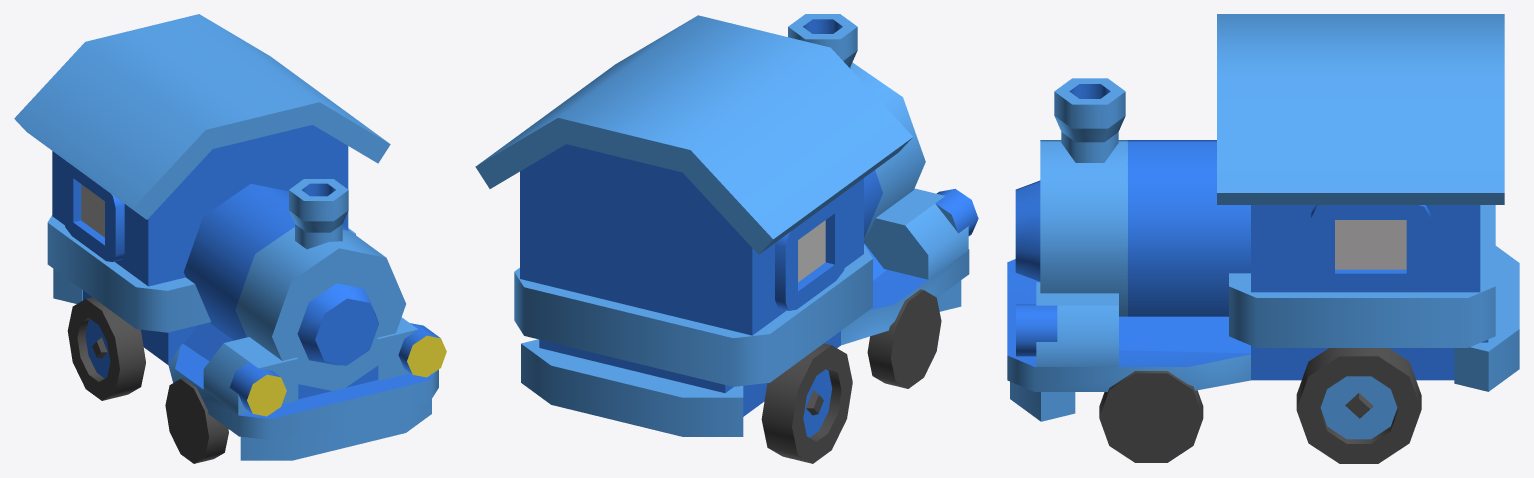
The model's file is Locomotive.fbx.
3 renders of one model, left to right at view 1: azimuth 30°, elevation 25°; view 2: azimuth 150°, elevation 25°; view 3: azimuth 270°, elevation 25°, orthographic. The views are drawn at different scales.
Visible parts, largest first — view 1: Locomotive, wheel_1, wheels_front; view 2: Locomotive, wheel_1, wheels_front; view 3: Locomotive, wheel_3, wheels_front.
Part boxes in pixels (x1,y1,x2,y2): Locomotive: [14, 14, 446, 460]; wheel_1: [67, 297, 145, 400]; wheels_front: [165, 378, 228, 463]; Locomotive: [475, 14, 978, 436]; wheel_1: [761, 343, 852, 463]; wheels_front: [867, 289, 941, 388]; Locomotive: [1007, 14, 1519, 421]; wheel_3: [1296, 348, 1421, 463]; wheels_front: [1099, 371, 1203, 462].
Bounding box in the file's own units: 256 × 284 × 372.
